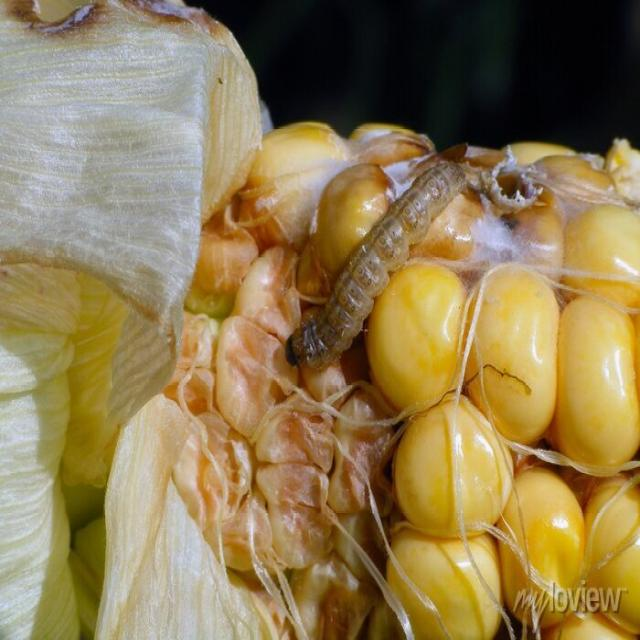cornborer-Larva-: (275, 156, 475, 387)
